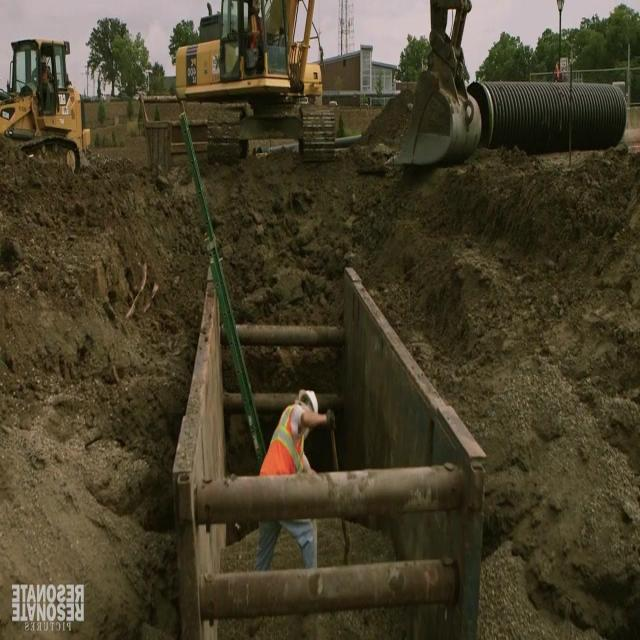Reflective-Jacket: (256, 400, 308, 480), (246, 12, 266, 56)
Safety-Helmet: (292, 380, 323, 421)
